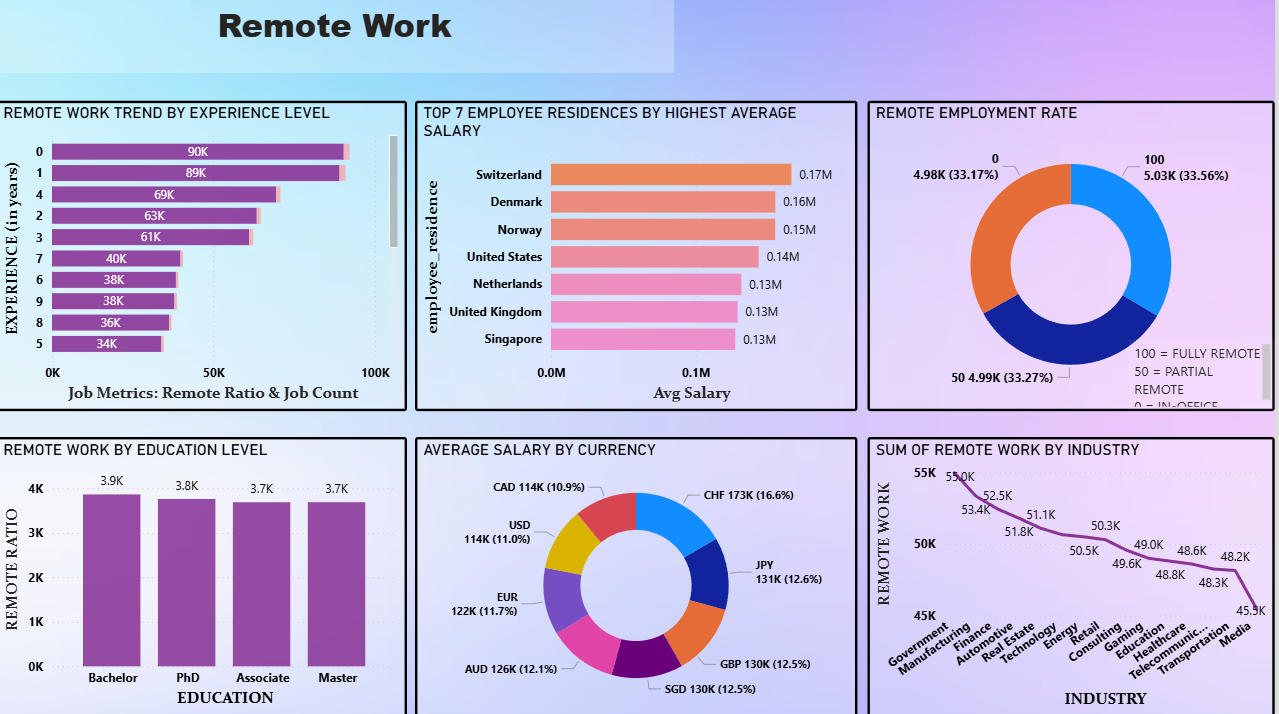

The page's visual inventory and layout, read from the dashboard file:
{"tool":"powerbi","page":{"name":"remote work","canvas":[1280,720],"ordinal":3},"visuals":[{"type":"barChart","title":"REMOTE WORK TREND BY EXPERIENCE LEVEL","fields":{"Y":["ai_job_dataset1.remote_ratio","ai_job_dataset1.job_id"],"Category":["ai_job_dataset1.years_experience"]},"box":[0,104.3,411.9,310.2],"z":0},{"type":"clusteredColumnChart","title":"REMOTE WORK BY EDUCATION LEVEL","fields":{"Category":["ai_job_dataset1.education_required"],"Y":["ai_job_dataset1.remote_ratio"]},"box":[0,439.9,411.9,279.7],"z":1000},{"type":"lineChart","title":"SUM OF REMOTE WORK BY INDUSTRY","fields":{"Category":["ai_job_dataset1.industry"],"Y":["ai_job_dataset1.remote_ratio"]},"box":[872.9,440,407.1,280],"z":2000},{"type":"clusteredBarChart","title":"TOP 7 EMPLOYEE RESIDENCES BY HIGHEST AVERAGE SALARY","fields":{"Category":["ai_job_dataset1.employee_residence"],"Y":["ai_job_dataset1.Avg Salary"]},"box":[419.5,104.3,442.4,310.2],"z":3000},{"type":"donutChart","title":"AVERAGE SALARY BY CURRENCY","fields":{"Category":["ai_job_dataset1.salary_currency"],"Y":["ai_job_dataset1.salary_usd"]},"box":[419.5,439.9,442.4,279.7],"z":4000},{"type":"donutChart","title":"REMOTE EMPLOYMENT RATE","fields":{"Category":["ai_job_dataset1.remote_ratio"],"Y":["ai_job_dataset1.Employment_type1"]},"box":[872.9,104.3,407.1,310],"z":5000},{"type":"textbox","box":[0,0,678.9,76.3],"z":6000},{"type":"textbox","box":[1134.1,342,146.2,72.5],"z":7000}]}

Visuals, with their boxes in screenshot pixels (x1, y1, x2, y2), scaled from the page's 1280x720 canvas onto the 1279x714 screenshot:
"REMOTE WORK TREND BY EXPERIENCE LEVEL" barChart: [0, 103, 412, 411]
"REMOTE WORK BY EDUCATION LEVEL" clusteredColumnChart: [0, 436, 412, 713]
"SUM OF REMOTE WORK BY INDUSTRY" lineChart: [872, 436, 1278, 713]
"TOP 7 EMPLOYEE RESIDENCES BY HIGHEST AVERAGE SALARY" clusteredBarChart: [419, 103, 861, 411]
"AVERAGE SALARY BY CURRENCY" donutChart: [419, 436, 861, 713]
"REMOTE EMPLOYMENT RATE" donutChart: [872, 103, 1278, 411]
textbox: [0, 0, 678, 76]
textbox: [1133, 339, 1278, 411]
